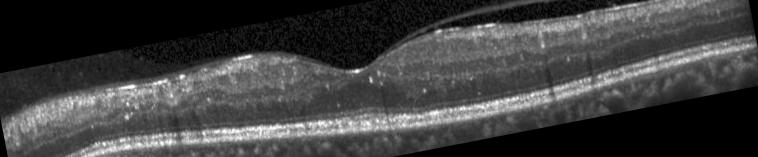vitreomacular_traction: (388, 0, 540, 50)
